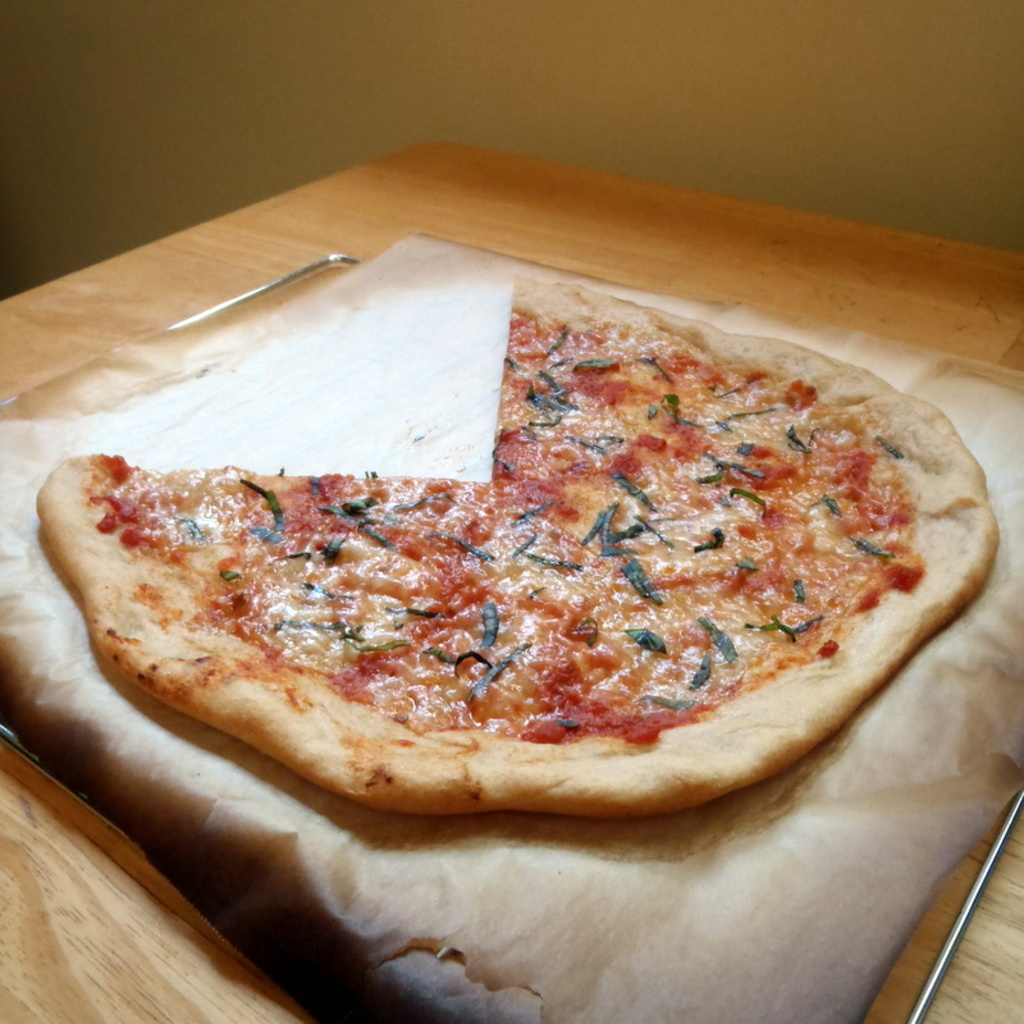Pizza: (32, 279, 1007, 842)
